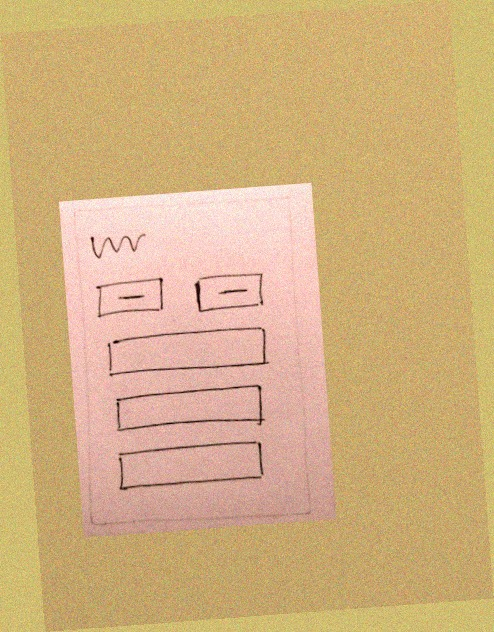button: (188, 266, 270, 318), (90, 275, 170, 324)
text: (85, 227, 150, 262)
text_input: (101, 323, 275, 384), (109, 382, 270, 440), (114, 438, 268, 496)
